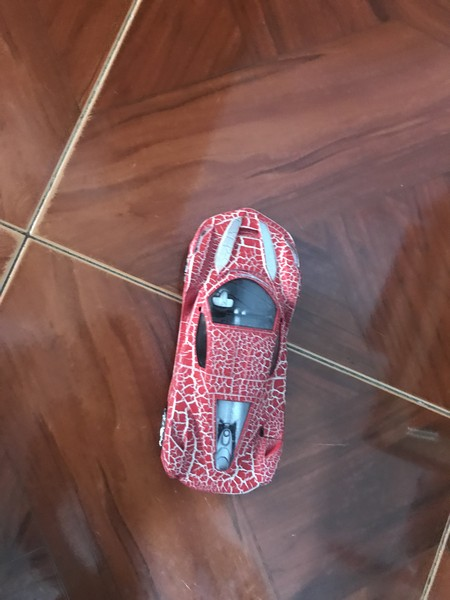RC: (157, 204, 302, 495)
